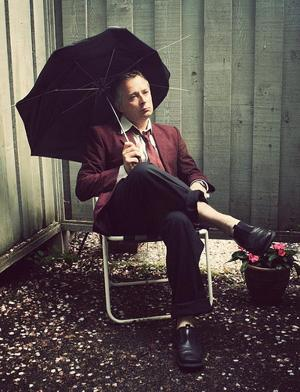person: (75, 67, 277, 372)
